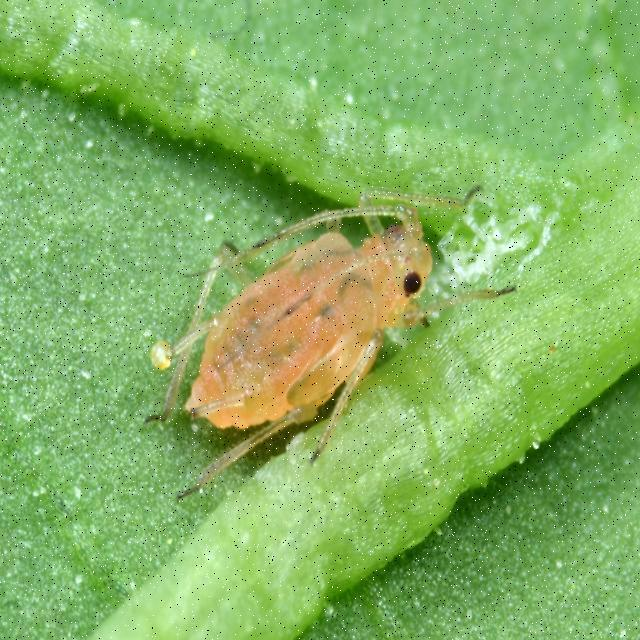Aphids: (111, 112, 518, 531)
